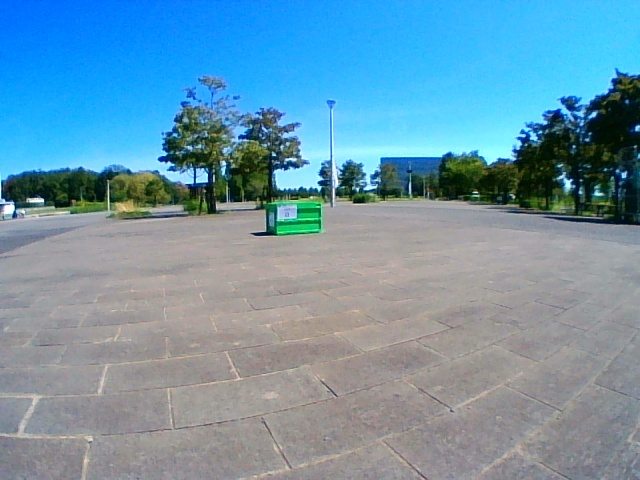green_box: (267, 202, 321, 233)
tag: (278, 206, 295, 220)
